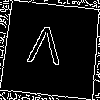V: (26, 25, 64, 74)
